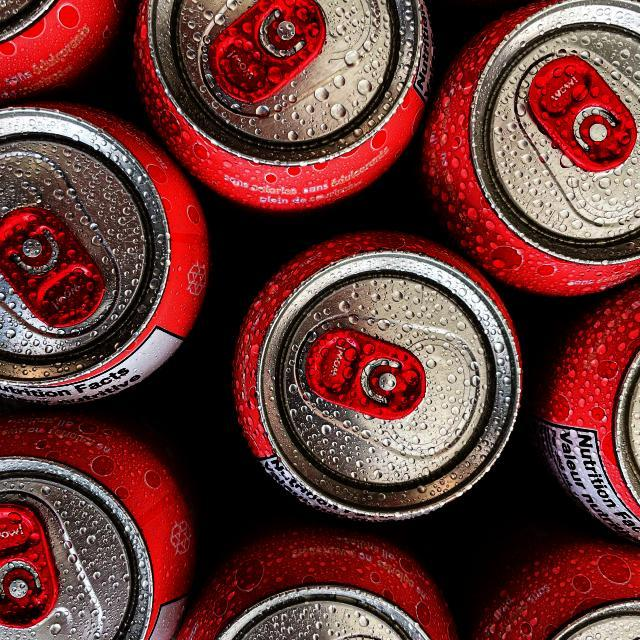can: (178, 60, 456, 570), (115, 0, 480, 240), (5, 83, 202, 381), (452, 11, 640, 273), (180, 497, 515, 637), (7, 400, 196, 636)
